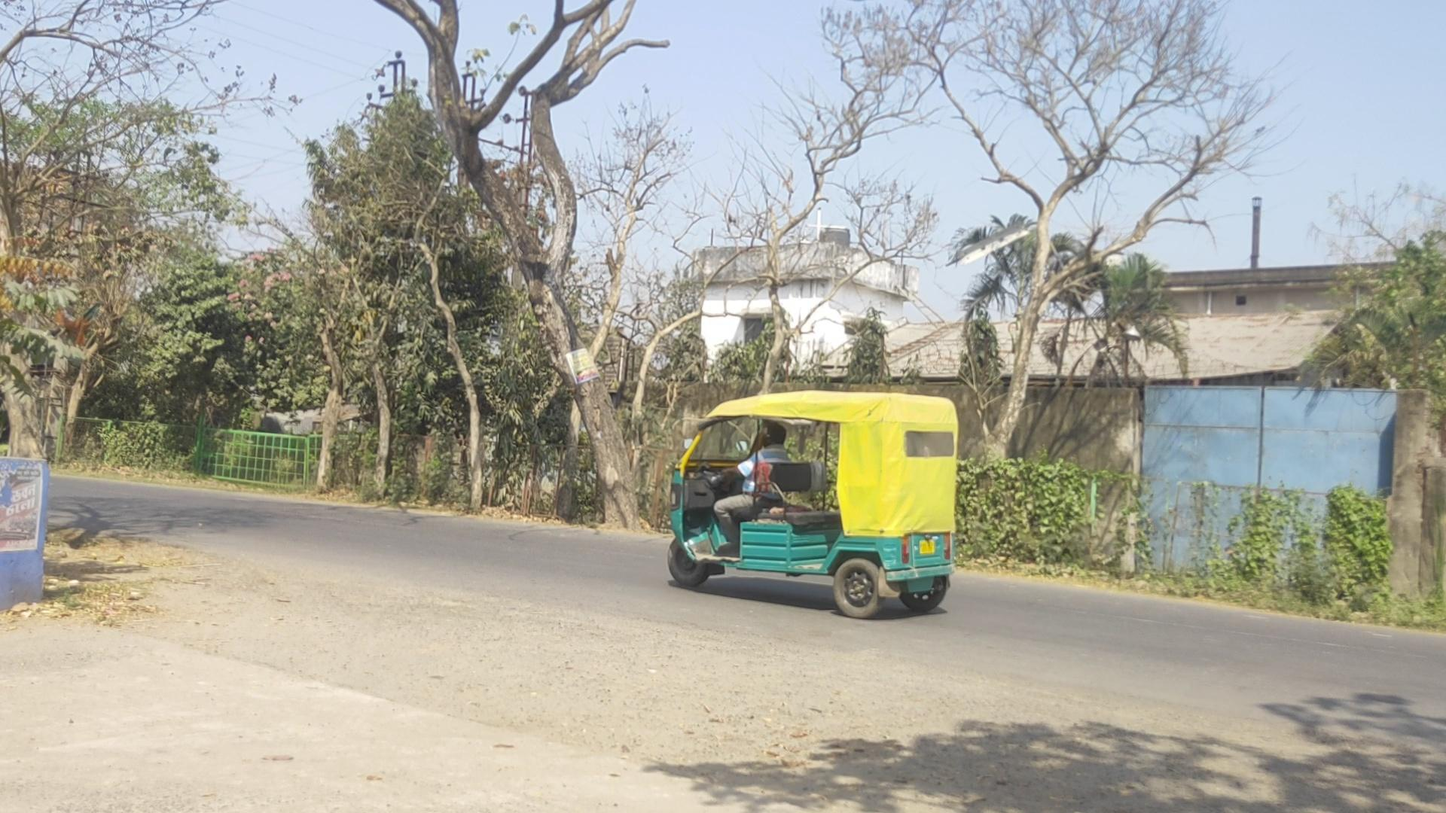Auto: (667, 389, 958, 619)
